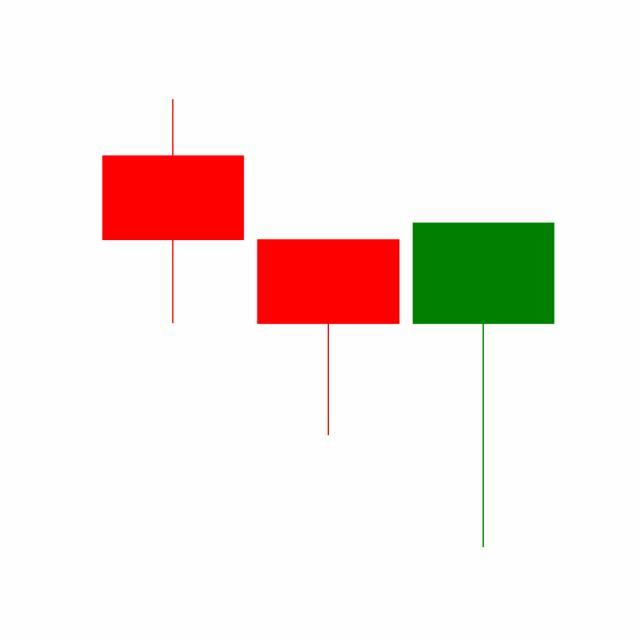Hanging Man: (406, 219, 562, 552)
